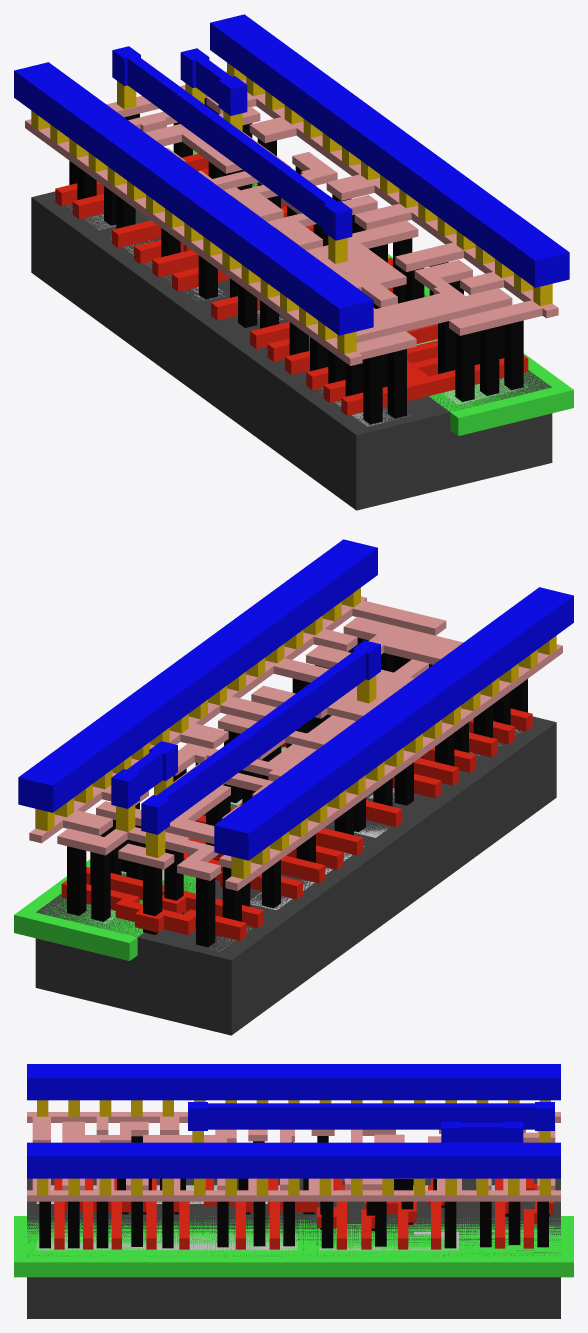
Rendered from sky130_fd_sc_hd__dlclkp_4.obj.
3 views of the same model, one above another, from view 1: azimuth 30°, elevation 25°; view 2: azimuth 150°, elevation 25°; view 3: azimuth 270°, elevation 25° (orthographic). The views are drawn at different scales.
Parts seen in each view (by area): view 1: metal1, subs, li, licon, poly, mcon, nwell; view 2: metal1, subs, li, licon, poly, mcon, nwell, diff; view 3: metal1, subs, nwell, li, licon, poly, mcon, tap.
Part boxes in pixels (left/top/right/bottom): metal1: left=14, top=14, right=569, bottom=335; subs: left=31, top=183, right=552, bottom=510; li: left=25, top=71, right=558, bottom=365; licon: left=69, top=98, right=523, bottom=424; poly: left=55, top=153, right=528, bottom=415; mcon: left=31, top=62, right=552, bottom=353; nwell: left=193, top=150, right=573, bottom=435; metal1: left=18, top=539, right=573, bottom=860; subs: left=35, top=716, right=556, bottom=1035; li: left=29, top=596, right=562, bottom=890; licon: left=67, top=637, right=527, bottom=947; poly: left=61, top=708, right=532, bottom=940; mcon: left=35, top=587, right=556, bottom=878; nwell: left=14, top=747, right=285, bottom=960; diff: left=210, top=722, right=532, bottom=951; metal1: left=27, top=1064, right=560, bottom=1178; subs: left=27, top=1178, right=560, bottom=1318; nwell: left=14, top=1216, right=573, bottom=1277; li: left=27, top=1112, right=560, bottom=1201; licon: left=39, top=1136, right=549, bottom=1248; poly: left=54, top=1178, right=553, bottom=1249; mcon: left=37, top=1100, right=550, bottom=1195; tap: left=36, top=1231, right=551, bottom=1250.
Bounding box in the file's own units: 3.2 × 2.74 × 8.2.
